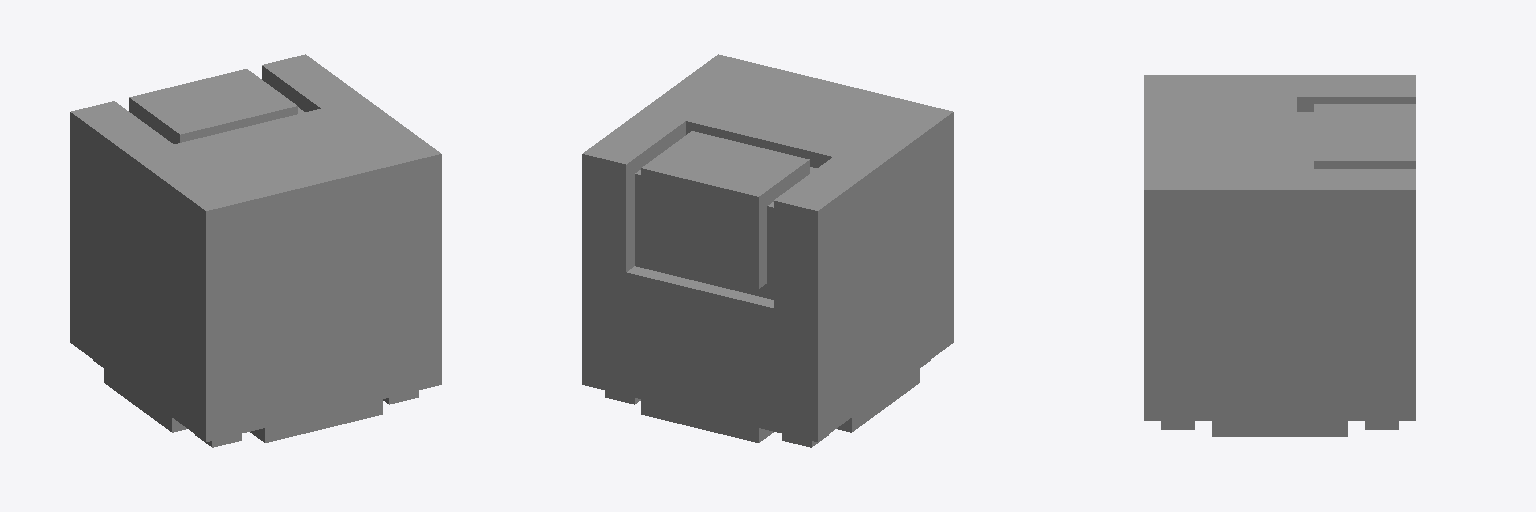
The model's file is blocksheep.obj.
The picture shows the model from 3 angles: view 1: azimuth 30°, elevation 25°; view 2: azimuth 150°, elevation 25°; view 3: azimuth 270°, elevation 25°; orthographic projection.
Parts seen in each view (by area): view 1: Cube; view 2: Cube; view 3: Cube.
Part boxes in pixels (x1,y1,x2,y2): Cube: (70, 54, 441, 447); Cube: (582, 54, 953, 447); Cube: (1144, 75, 1415, 436).
Bounding box in the file's own units: 1 × 1 × 1.